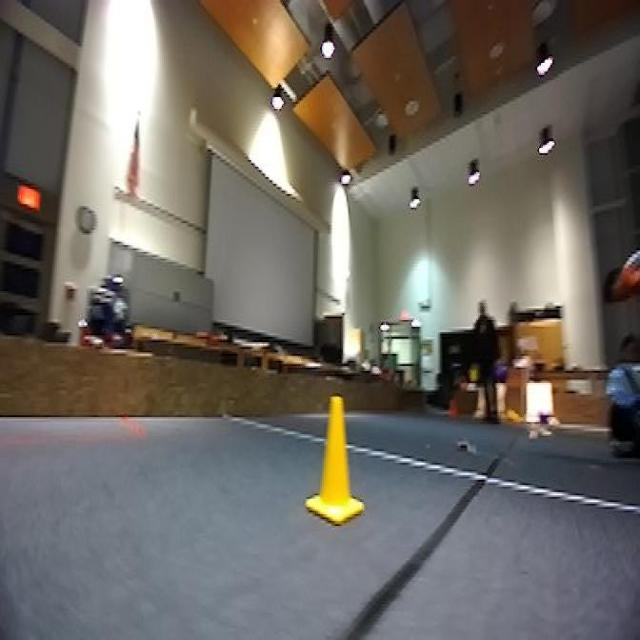frc_cone: (306, 395, 368, 524)
